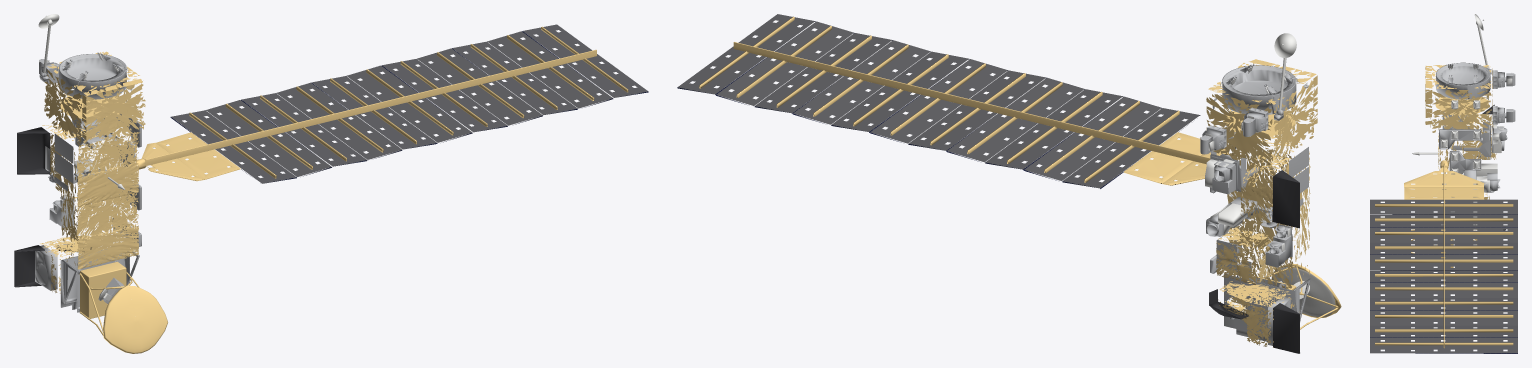
The model's file is aqua.glb.
3 views of the same model, side by side, from view 1: azimuth 30°, elevation 25°; view 2: azimuth 150°, elevation 25°; view 3: azimuth 270°, elevation 25° (orthographic). The views are drawn at different scales.
Visible parts, largest first — view 1: Aqua_Reduced_v0014 [Aqua_Layered_02 [Layer2]], Aqua_Reduced_v0014 [Aqua_Layered_02 [Layer3]], Aqua_Reduced_v0014 [Aqua_Layered_02 [Layer23]], Aqua_Reduced_v0014 [Aqua_Layered_02 [Layer22]], Aqua_Reduced_v0014 [Aqua_Layered_02 [(unnamed)]], Aqua_Reduced_v0014 [Aqua_Layered_02 [Layer9]], Aqua_Reduced_v0014 [Layer26], Aqua_Reduced_v0014 [Aqua_Layered_02 [Layer10]], Aqua_Reduced_v0014 [Aqua_Layered_02 [Layer14]], Aqua_Reduced_v0014 [Layer24], Aqua_Reduced_v0014 [Aqua_Layered_02 [Layer16]], Aqua_Reduced_v0014 [Aqua_Layered_02 [Layer18]] (+2 smaller); view 2: Aqua_Reduced_v0014 [Aqua_Layered_02 [Layer2]], Aqua_Reduced_v0014 [Aqua_Layered_02 [Layer3]], Aqua_Reduced_v0014 [Aqua_Layered_02 [Layer22]], Aqua_Reduced_v0014 [Aqua_Layered_02 [Layer10]], Aqua_Reduced_v0014 [Aqua_Layered_02 [(unnamed)]], Aqua_Reduced_v0014 [Aqua_Layered_02 [Layer9]], Aqua_Reduced_v0014 [Aqua_Layered_02 [Layer14]], Aqua_Reduced_v0014 [Aqua_Layered_02 [Layer19]], Aqua_Reduced_v0014 [Aqua_Layered_02 [Layer20]], Aqua_Reduced_v0014 [Aqua_Layered_02 [Layer16]], Aqua_Reduced_v0014 [Layer25], Aqua_Reduced_v0014 [Aqua_Layered_02 [Layer21]] (+4 smaller); view 3: Aqua_Reduced_v0014 [Aqua_Layered_02 [Layer2]], Aqua_Reduced_v0014 [Aqua_Layered_02 [Layer3]], Aqua_Reduced_v0014 [Aqua_Layered_02 [Layer22]], Aqua_Reduced_v0014 [Aqua_Layered_02 [Layer10]], Aqua_Reduced_v0014 [Aqua_Layered_02 [Layer9]], Aqua_Reduced_v0014 [Aqua_Layered_02 [Layer4]], Aqua_Reduced_v0014 [Aqua_Layered_02 [Layer16]], Aqua_Reduced_v0014 [Aqua_Layered_02 [Layer8]], Aqua_Reduced_v0014 [Aqua_Layered_02 [Layer17]], Aqua_Reduced_v0014 [Aqua_Layered_02 [Layer21]], Aqua_Reduced_v0014 [Aqua_Layered_02 [Layer12]], Aqua_Reduced_v0014 [Aqua_Layered_02 [Layer7]] (+2 smaller).
Part boxes in pixels (<box>): Aqua_Reduced_v0014 [Aqua_Layered_02 [Layer2]]: <box>171,24,648,183</box>; Aqua_Reduced_v0014 [Aqua_Layered_02 [Layer3]]: <box>135,26,628,181</box>; Aqua_Reduced_v0014 [Aqua_Layered_02 [Layer23]]: <box>77,133,138,269</box>; Aqua_Reduced_v0014 [Aqua_Layered_02 [Layer22]]: <box>44,51,145,146</box>; Aqua_Reduced_v0014 [Aqua_Layered_02 [(unnamed)]]: <box>61,126,137,268</box>; Aqua_Reduced_v0014 [Aqua_Layered_02 [Layer9]]: <box>35,54,141,312</box>; Aqua_Reduced_v0014 [Layer26]: <box>103,285,167,353</box>; Aqua_Reduced_v0014 [Aqua_Layered_02 [Layer10]]: <box>39,53,126,311</box>; Aqua_Reduced_v0014 [Aqua_Layered_02 [Layer14]]: <box>14,127,91,287</box>; Aqua_Reduced_v0014 [Layer24]: <box>80,261,126,318</box>; Aqua_Reduced_v0014 [Aqua_Layered_02 [Layer16]]: <box>38,14,124,300</box>; Aqua_Reduced_v0014 [Aqua_Layered_02 [Layer18]]: <box>54,134,73,191</box>; Aqua_Reduced_v0014 [Aqua_Layered_02 [Layer2]]: <box>678,14,1199,188</box>; Aqua_Reduced_v0014 [Aqua_Layered_02 [Layer3]]: <box>699,16,1228,185</box>; Aqua_Reduced_v0014 [Aqua_Layered_02 [Layer22]]: <box>1206,59,1317,165</box>; Aqua_Reduced_v0014 [Aqua_Layered_02 [Layer10]]: <box>1200,65,1296,319</box>; Aqua_Reduced_v0014 [Aqua_Layered_02 [(unnamed)]]: <box>1227,132,1310,288</box>; Aqua_Reduced_v0014 [Aqua_Layered_02 [Layer9]]: <box>1207,66,1310,345</box>; Aqua_Reduced_v0014 [Aqua_Layered_02 [Layer14]]: <box>1209,170,1300,353</box>; Aqua_Reduced_v0014 [Aqua_Layered_02 [Layer19]]: <box>1218,281,1294,347</box>; Aqua_Reduced_v0014 [Aqua_Layered_02 [Layer20]]: <box>1216,227,1275,284</box>; Aqua_Reduced_v0014 [Aqua_Layered_02 [Layer16]]: <box>1205,33,1309,298</box>; Aqua_Reduced_v0014 [Layer25]: <box>1272,267,1335,317</box>; Aqua_Reduced_v0014 [Aqua_Layered_02 [Layer21]]: <box>1240,152,1294,223</box>; Aqua_Reduced_v0014 [Aqua_Layered_02 [Layer2]]: <box>1370,199,1517,353</box>; Aqua_Reduced_v0014 [Aqua_Layered_02 [Layer3]]: <box>1375,160,1513,348</box>; Aqua_Reduced_v0014 [Aqua_Layered_02 [Layer22]]: <box>1425,65,1492,133</box>; Aqua_Reduced_v0014 [Aqua_Layered_02 [Layer10]]: <box>1436,62,1515,240</box>; Aqua_Reduced_v0014 [Aqua_Layered_02 [Layer9]]: <box>1433,64,1504,245</box>; Aqua_Reduced_v0014 [Aqua_Layered_02 [Layer4]]: <box>1370,214,1517,353</box>; Aqua_Reduced_v0014 [Aqua_Layered_02 [Layer16]]: <box>1412,14,1512,192</box>; Aqua_Reduced_v0014 [Aqua_Layered_02 [Layer8]]: <box>1463,72,1504,156</box>; Aqua_Reduced_v0014 [Aqua_Layered_02 [Layer17]]: <box>1440,100,1512,245</box>; Aqua_Reduced_v0014 [Aqua_Layered_02 [Layer21]]: <box>1462,114,1496,159</box>; Aqua_Reduced_v0014 [Aqua_Layered_02 [Layer12]]: <box>1448,64,1492,196</box>; Aqua_Reduced_v0014 [Aqua_Layered_02 [Layer7]]: <box>1492,70,1497,124</box>.
Size of the model in its own units: 1 by 0.5288 by 0.2857.
23 materials, 3 textured.
